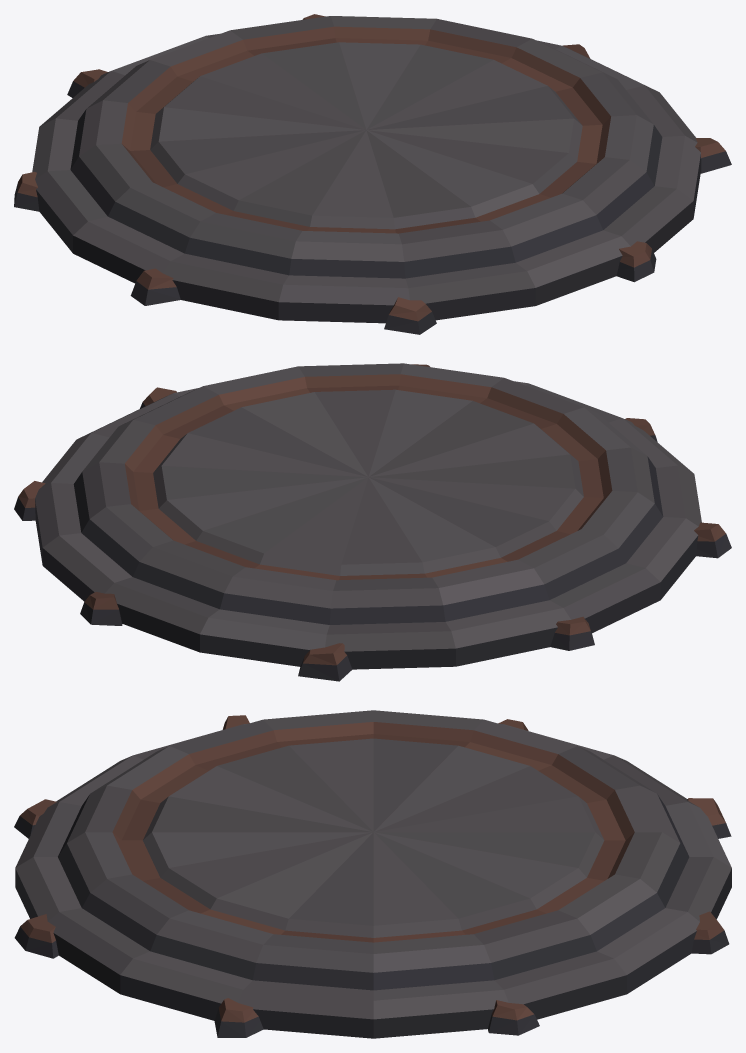
The picture shows the model from 3 angles, top to bottom: view 1: azimuth 30°, elevation 25°; view 2: azimuth 150°, elevation 25°; view 3: azimuth 270°, elevation 25°; orthographic projection. The views are drawn at different scales.
Parts seen in each view (by area): view 1: volcano-station; view 2: volcano-station; view 3: volcano-station.
Boxes of the visible parts, left/top/right/bottom form: volcano-station: left=14, top=14, right=731, bottom=334; volcano-station: left=14, top=363, right=731, bottom=681; volcano-station: left=14, top=710, right=731, bottom=1038.
Size of the model in its own units: 2.36 by 0.2 by 2.36.
